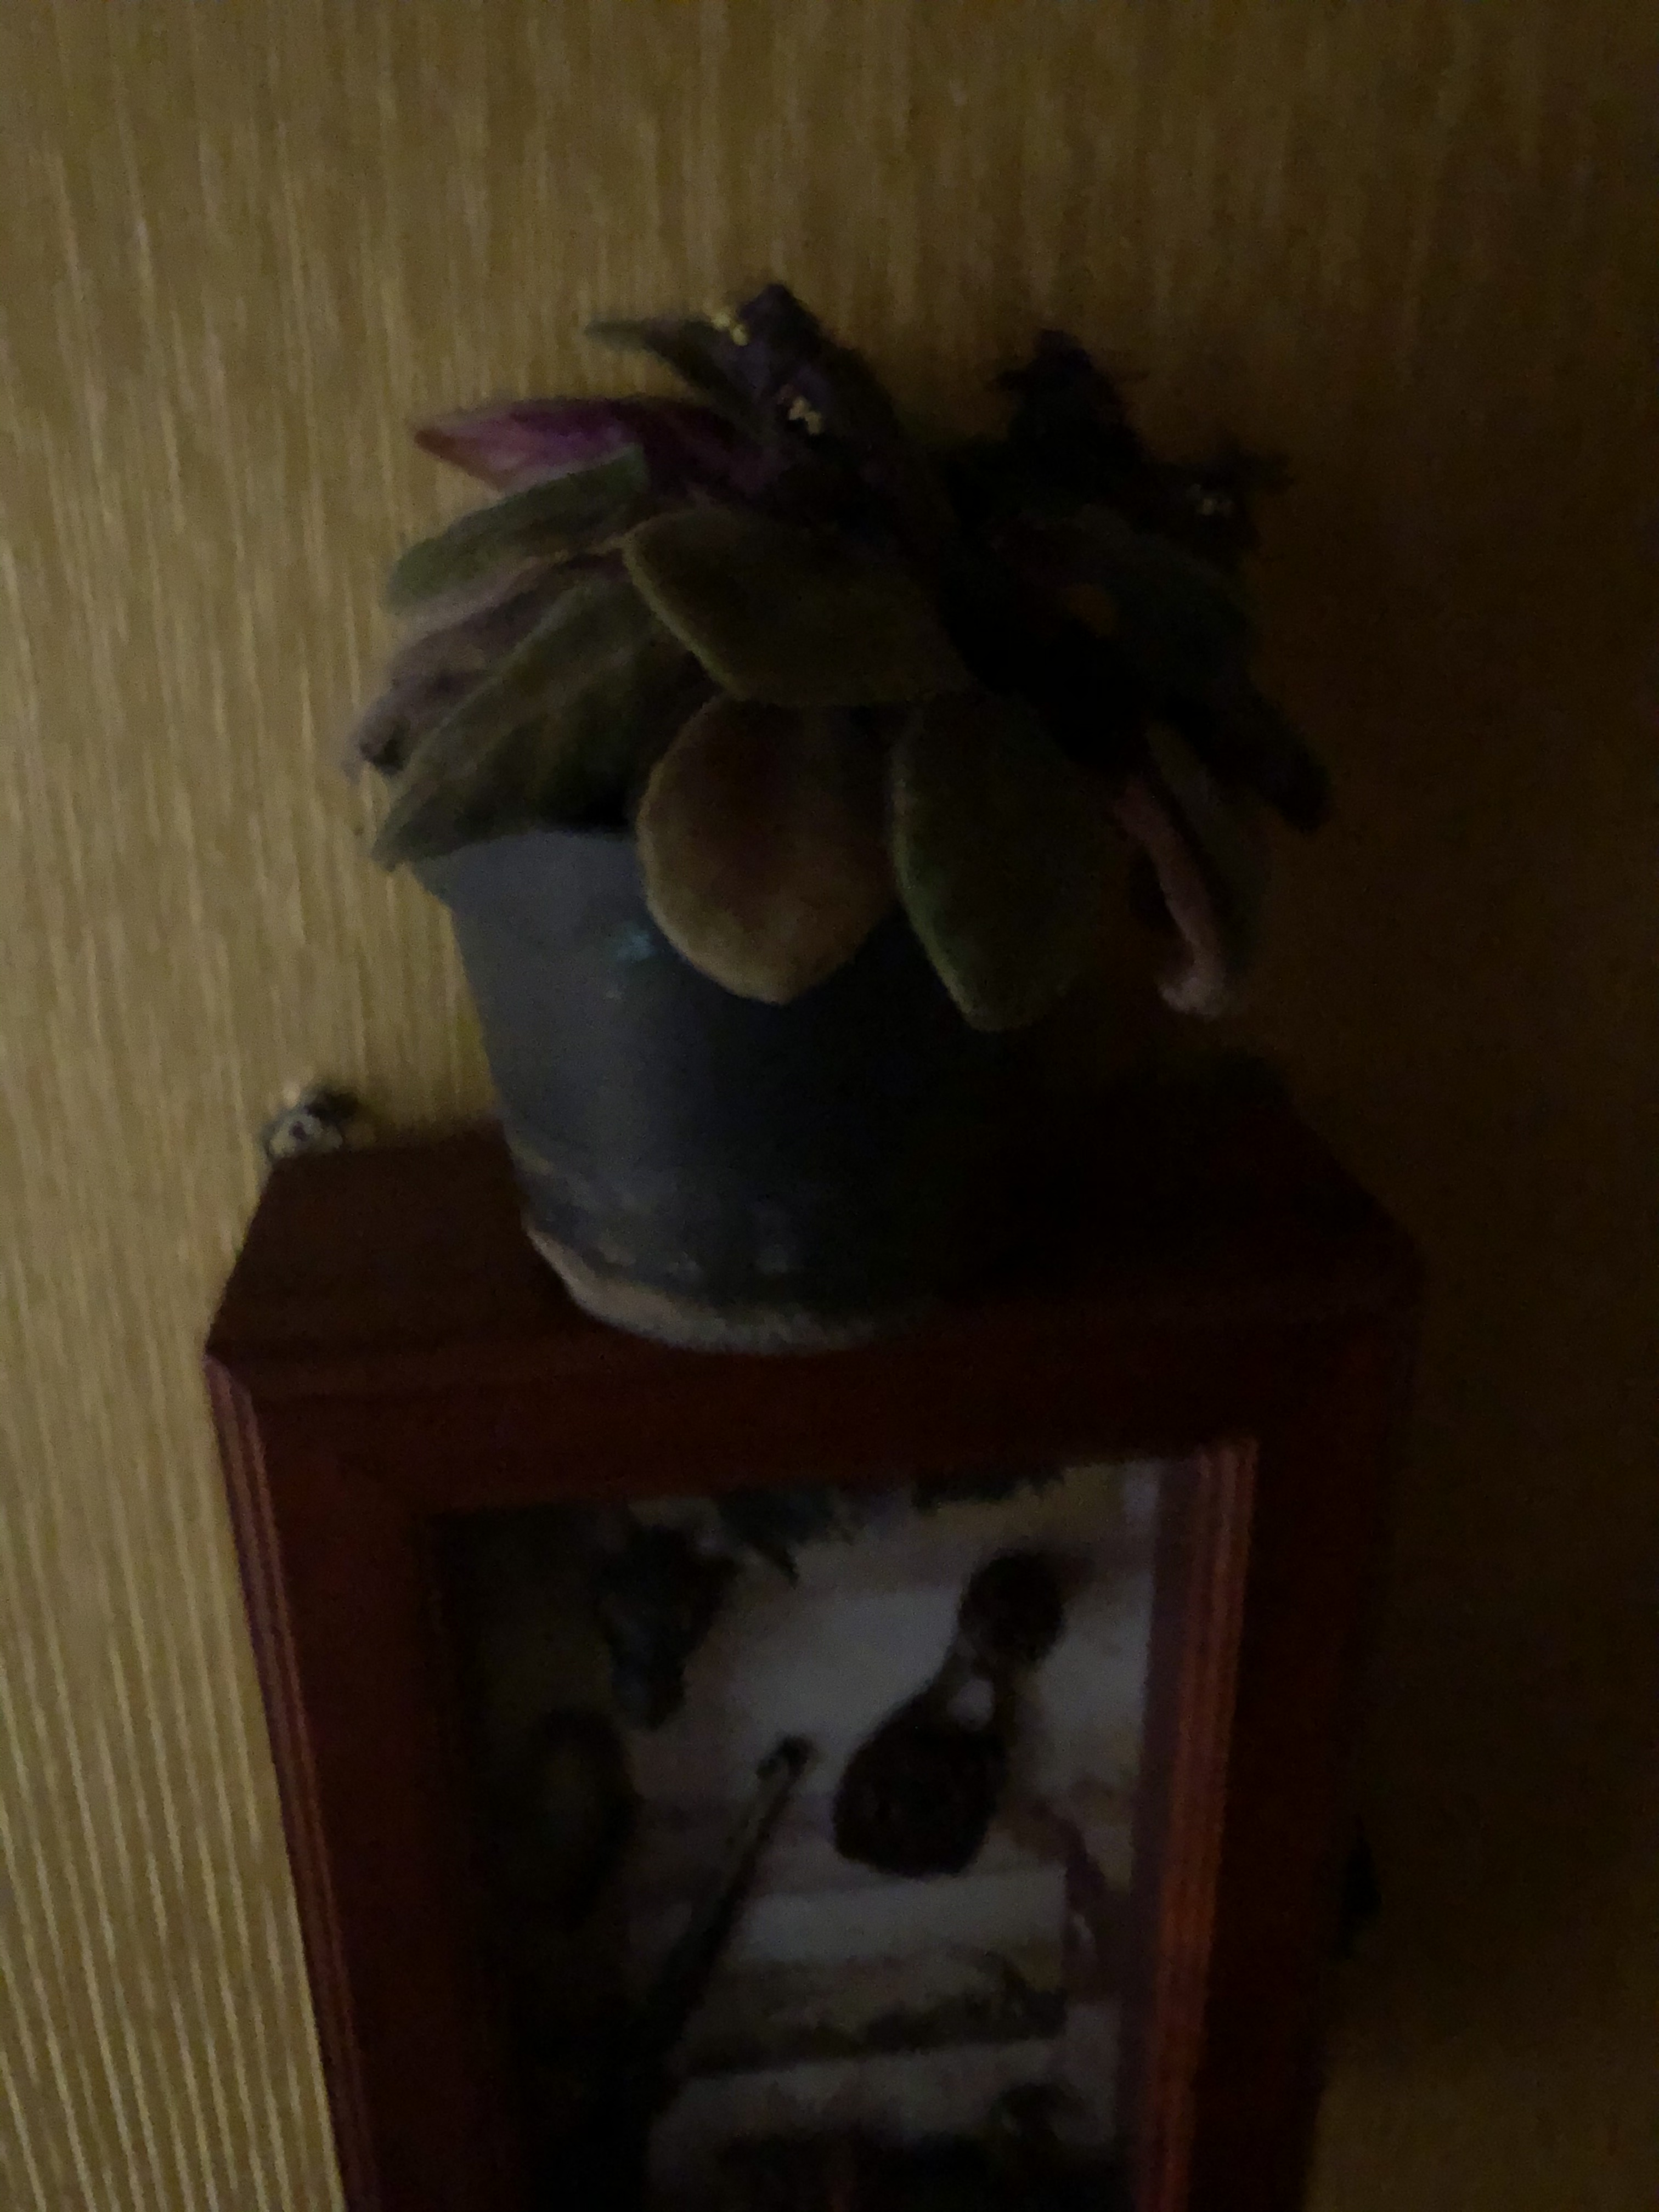ignore: (298, 235, 1380, 1040)
